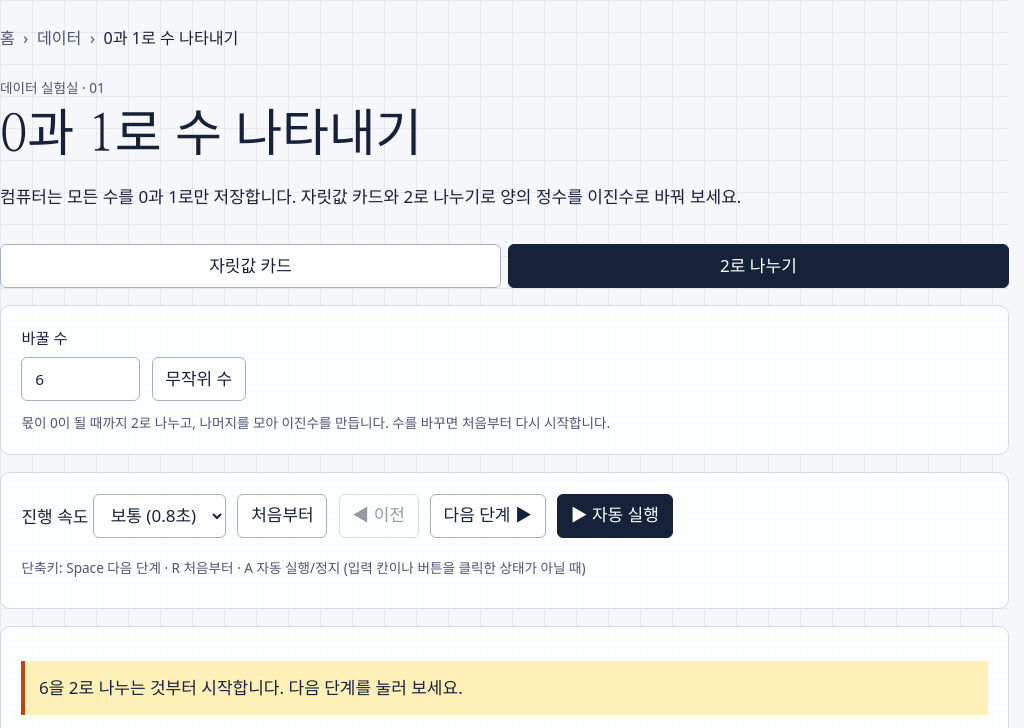
Test: 자동 실행과 단축키로 2로 나누기를 진행한다
The image size is (1024, 728).
Press Space
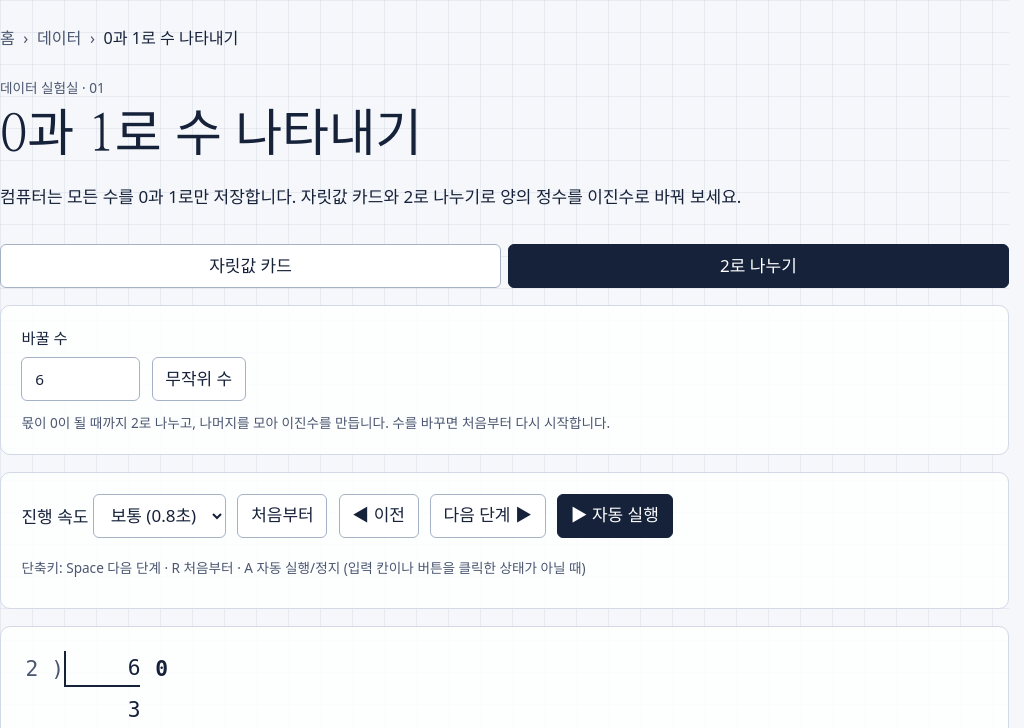
Click the button "▶ 자동 실행" at (615, 516), box [557,494,673,538]
Wait 2400 ms
(page scrolled)
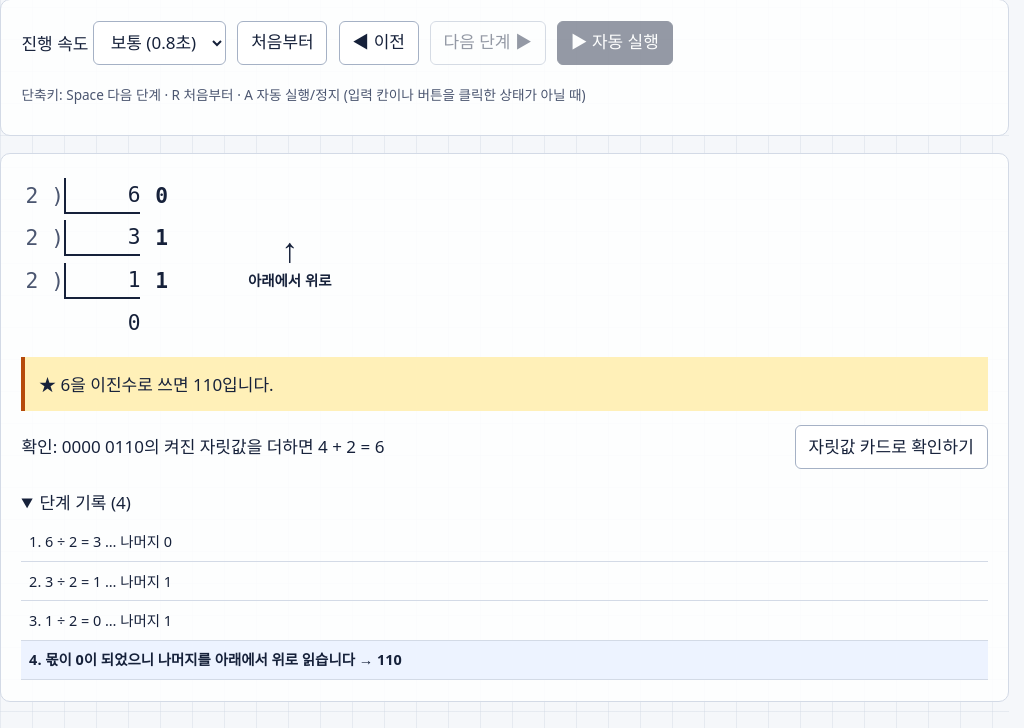
Expected: the message shows "6을 이진수로 쓰면 110입니다", [39,373,274,396]
Press r
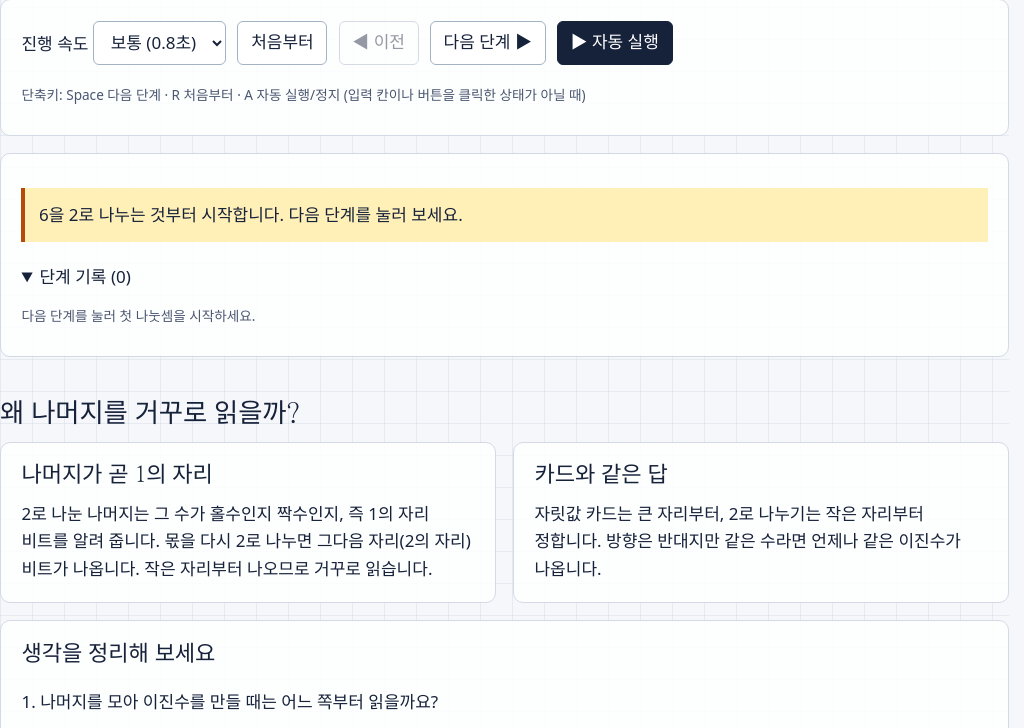
Expected: the heading "단계 기록 (0)" is shown, [40,265,131,288]
